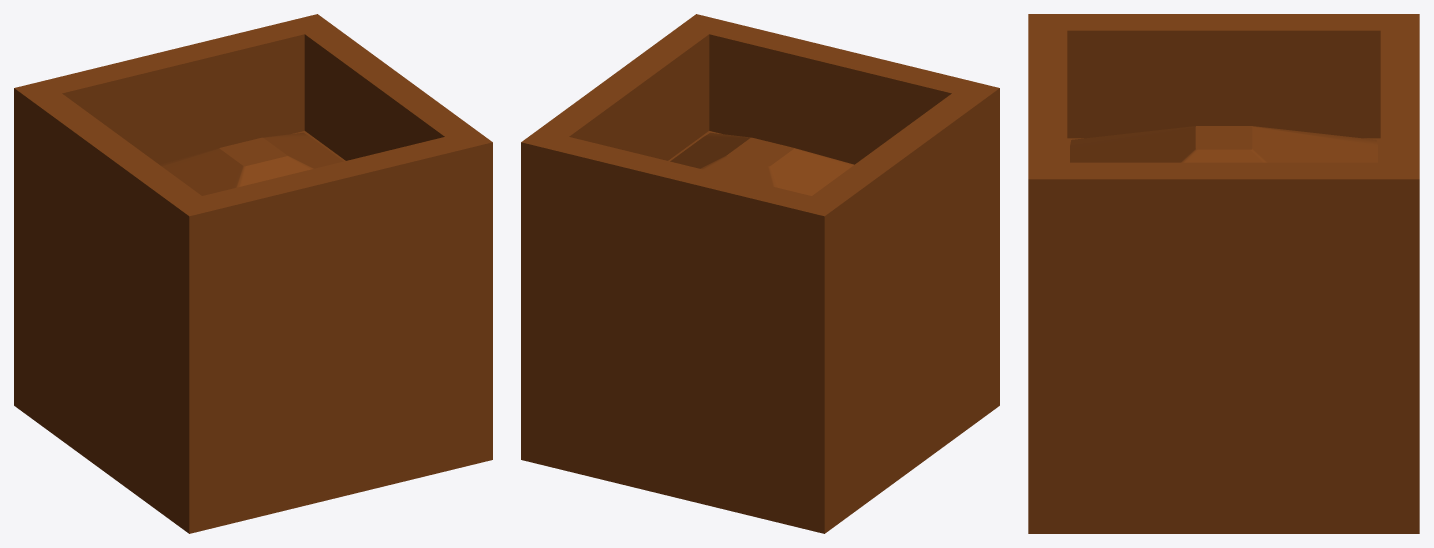
3 views of the same model, side by side, from view 1: azimuth 30°, elevation 25°; view 2: azimuth 150°, elevation 25°; view 3: azimuth 270°, elevation 25° (orthographic). The views are drawn at different scales.
Parts seen in each view (by area): view 1: box; view 2: box; view 3: box.
Part boxes in pixels (box(x1,y1,x2,y2)): box: box(14, 14, 492, 533); box: box(521, 14, 999, 533); box: box(1028, 14, 1419, 533).
Bounding box in the file's own units: 0.25 × 0.25 × 0.25.
